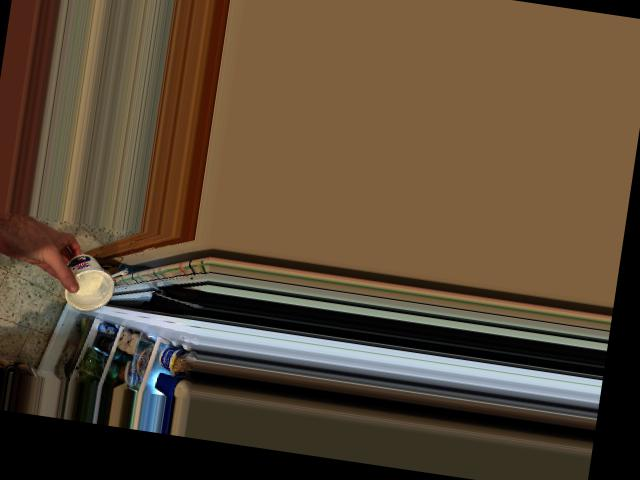cotage: (58, 248, 117, 308)
